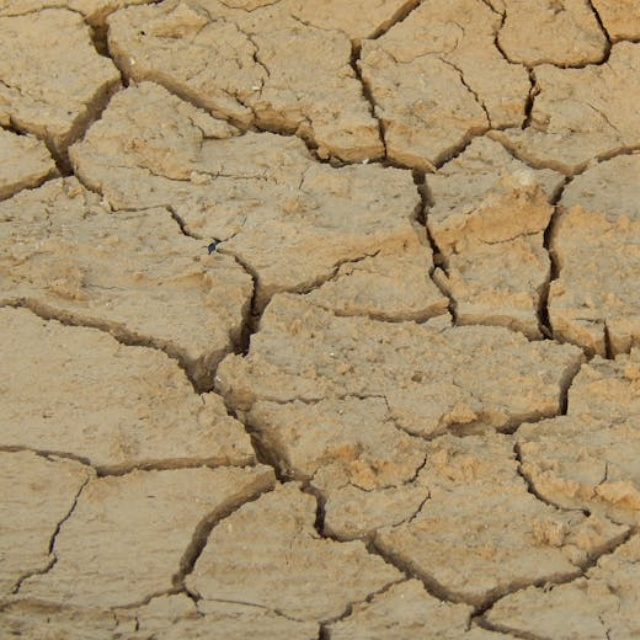细微裂纹: (122, 0, 640, 640), (230, 11, 593, 605), (400, 35, 640, 487), (458, 24, 627, 640), (501, 54, 598, 414)
网状裂隙: (186, 0, 640, 640)
